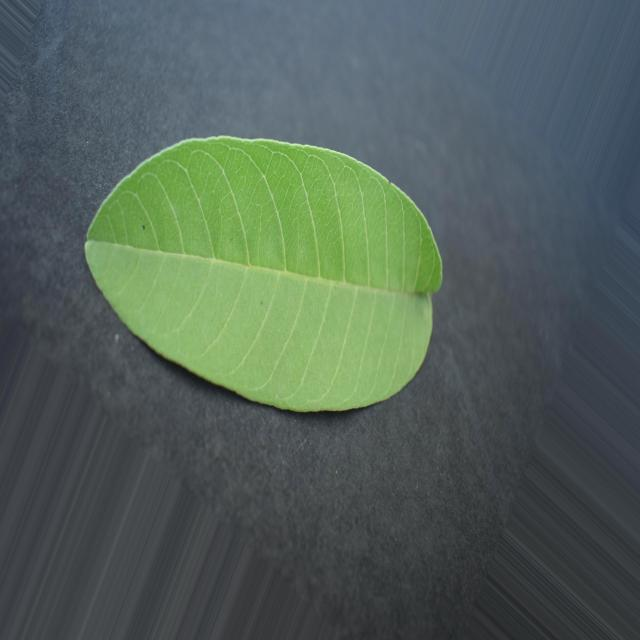Healthy: (85, 137, 442, 411)
